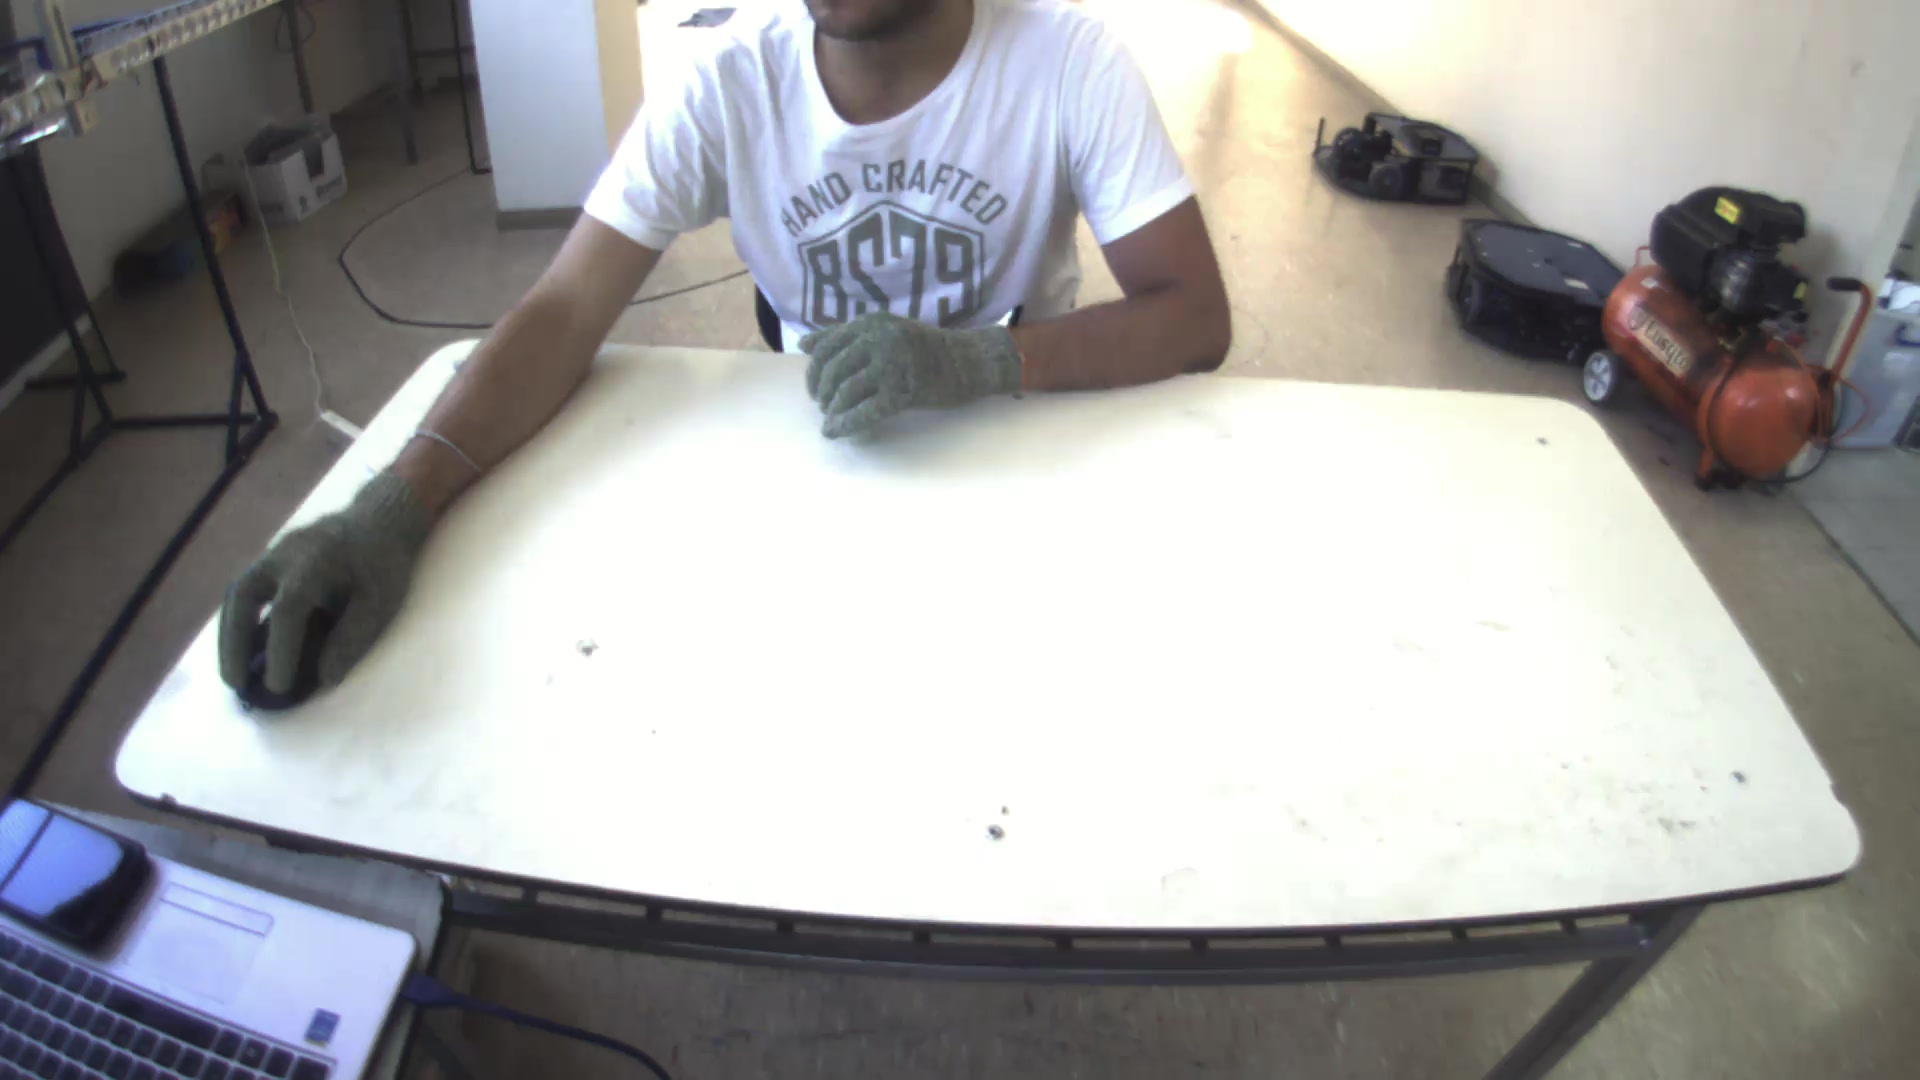hand: (212, 464, 462, 708), (790, 291, 1031, 433)
